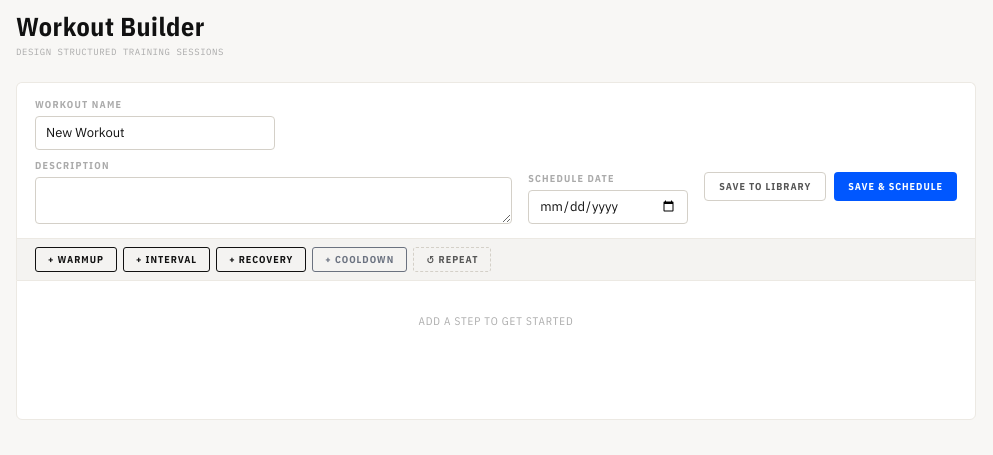
test_add_warmup › click Warmup button → step appears in timeline
Click the button "+ Warmup".
click(76, 259)  # box left=35, top=247, right=117, bottom=272
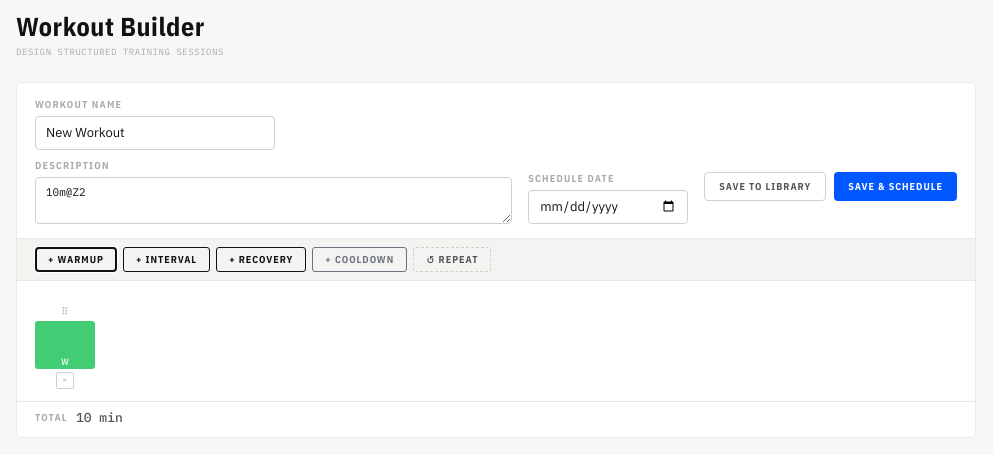
expect the element with test id "step-bar-0" is shown: met, box left=35, top=321, right=95, bottom=369
